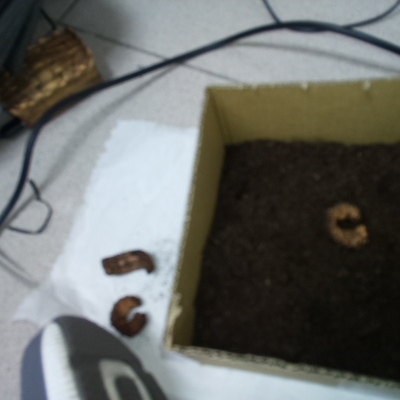eggs: (319, 196, 374, 253)
